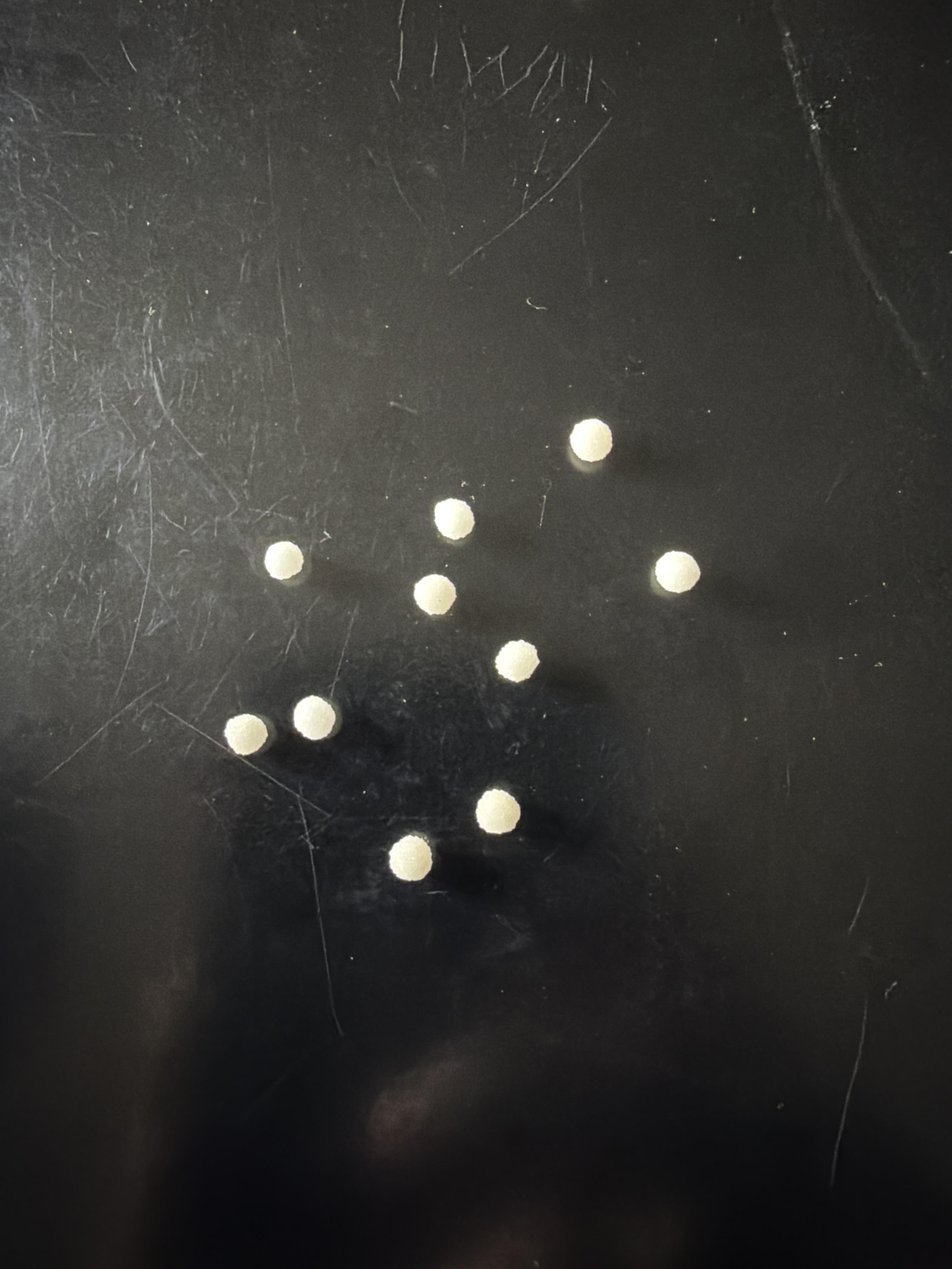pill: (475, 788, 521, 834), (292, 695, 338, 741), (389, 835, 433, 882), (224, 713, 269, 756), (654, 551, 700, 593), (570, 418, 612, 462), (495, 640, 539, 682), (414, 574, 456, 616), (434, 498, 474, 540), (264, 541, 304, 581)
